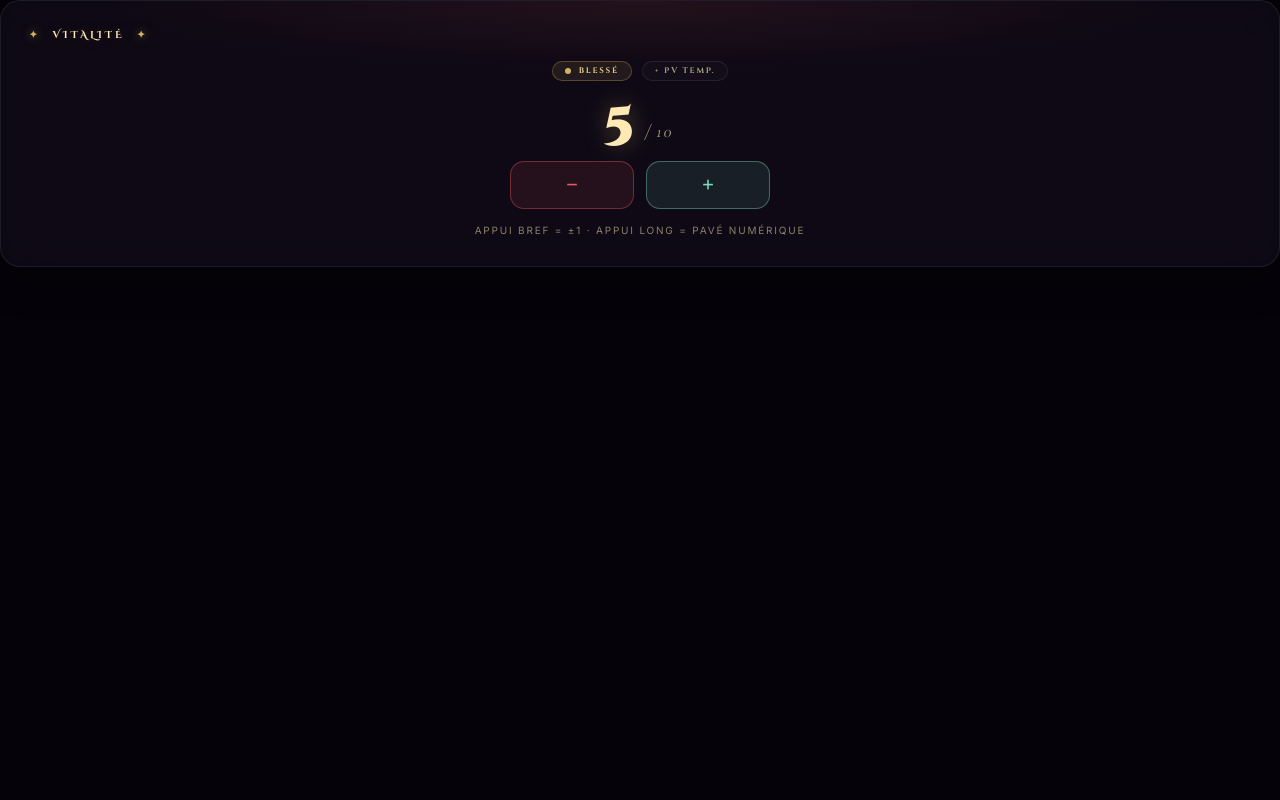
Test case: <HpMegaCard> — maximum de PV éditable (M15) › le pad du maximum n’est PAS plafonné par le maximum courant
Click the button named "Modifier le maximum de PV" at (659, 131), box [641,118,676,145]
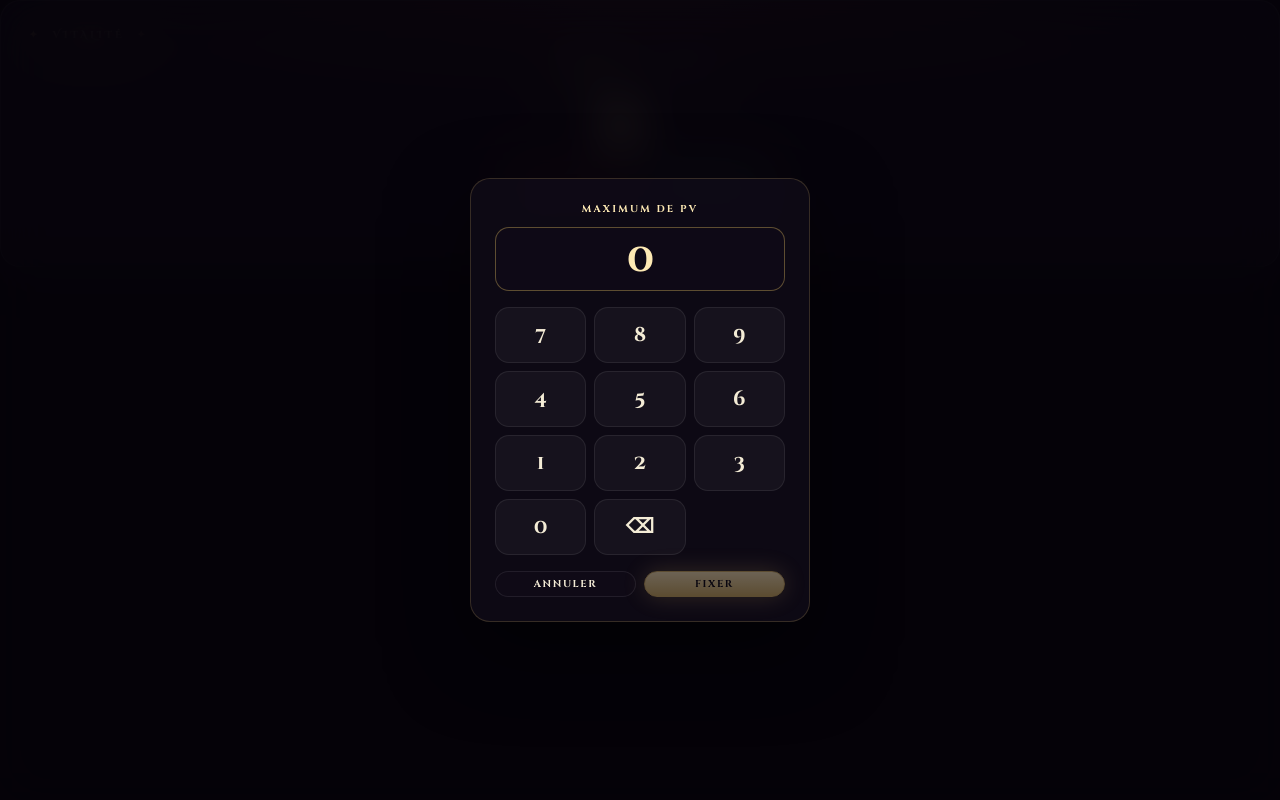
Click the button "4" at (541, 399), box [495,371,586,427]
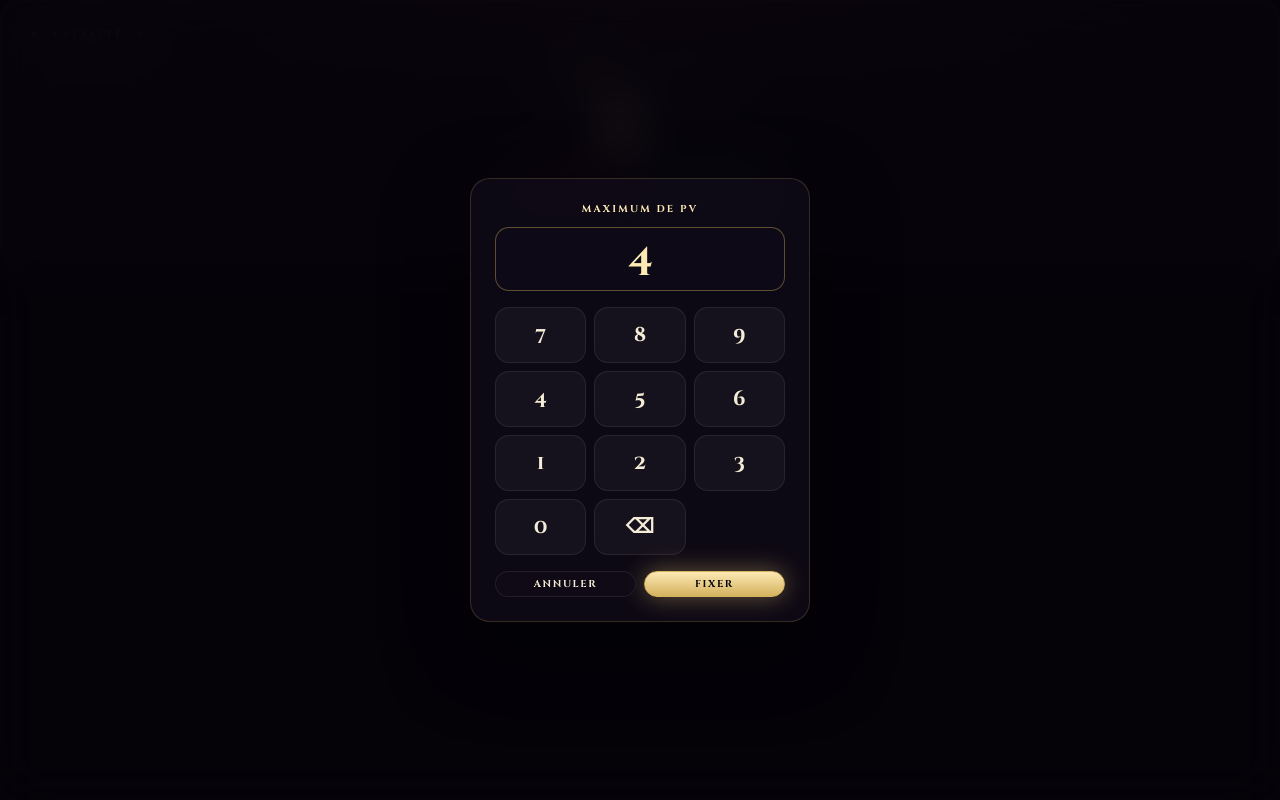
Click the button "5" at (640, 399), box [594,371,686,427]
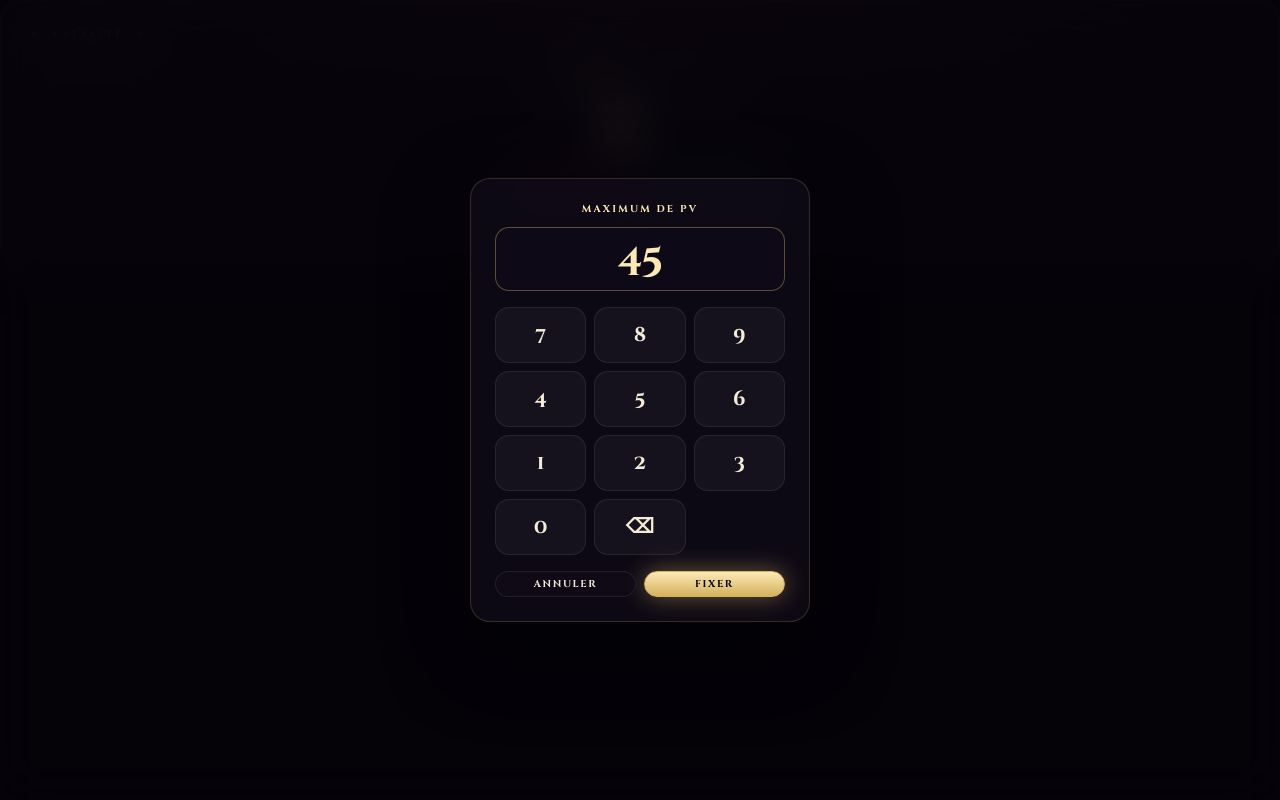
Now the text "45" is shown, box [495,227,785,291]
